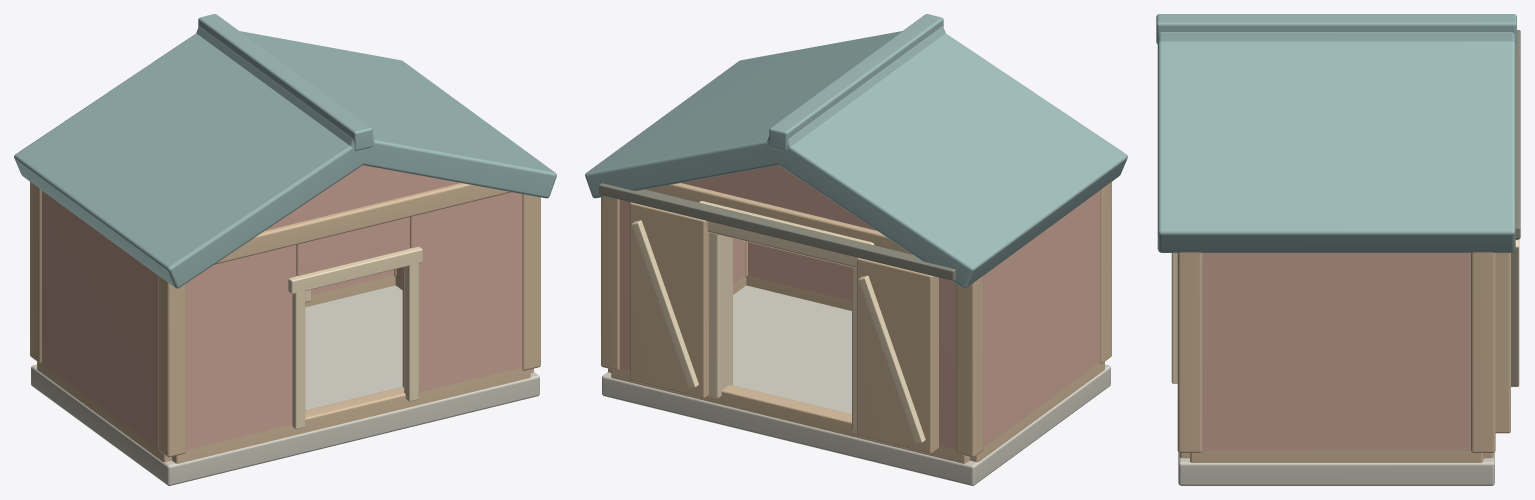
The model's file is shelter-roof.glb.
3 views of the same model, side by side, from view 1: azimuth 30°, elevation 25°; view 2: azimuth 150°, elevation 25°; view 3: azimuth 270°, elevation 25° (orthographic). The views are drawn at different scales.
Visible parts, largest first — view 1: Padded roof plane, Padded roof plane.001, Rounded stone footing.002, Side panel, Front cladding, Front cladding.001, Eave beam.002, Sill beam.008, Corner post.004, Ridge cap, Gable cladding, Front header panel (+7 smaller); view 2: Padded roof plane, Rounded stone footing.002, Padded roof plane.001, Side panel, Open sliding door, Open sliding door.001, Door track, Corner post.005, Ridge cap, Gable cladding.001, Sill beam.009, Door jamb.001 (+12 smaller); view 3: Padded roof plane.001, Side panel.001, Rounded stone footing.002, Ridge cap, Corner post.006, Corner post.007, Sill beam.011, Padded roof plane, Open sliding door.001, Door diagonal brace.001, Door track, Front door jamb.001.
Boxes of the visible parts, x1,y1,x2,y2 form: Padded roof plane: [14, 33, 377, 288]; Padded roof plane.001: [196, 26, 556, 198]; Rounded stone footing.002: [31, 285, 539, 485]; Side panel: [41, 190, 157, 447]; Front cladding: [186, 245, 296, 451]; Front cladding.001: [402, 192, 522, 392]; Eave beam.002: [214, 183, 511, 264]; Sill beam.008: [172, 367, 530, 463]; Corner post.004: [158, 275, 185, 457]; Ridge cap: [198, 14, 372, 150]; Gable cladding: [265, 165, 460, 230]; Front header panel: [296, 217, 409, 275]; Padded roof plane: [764, 33, 1127, 288]; Rounded stone footing.002: [602, 285, 1110, 485]; Padded roof plane.001: [585, 26, 945, 198]; Side panel: [984, 190, 1100, 447]; Open sliding door: [856, 257, 938, 453]; Open sliding door.001: [630, 202, 708, 398]; Door track: [599, 183, 955, 280]; Corner post.005: [956, 275, 983, 457]; Ridge cap: [769, 14, 943, 150]; Gable cladding.001: [681, 165, 876, 230]; Sill beam.009: [611, 367, 969, 463]; Door jamb.001: [708, 232, 732, 398]; Padded roof plane.001: [1157, 41, 1515, 252]; Side panel.001: [1202, 253, 1470, 450]; Rounded stone footing.002: [1178, 452, 1494, 485]; Ridge cap: [1156, 14, 1516, 43]; Corner post.006: [1177, 252, 1202, 452]; Corner post.007: [1471, 252, 1495, 452]; Sill beam.011: [1190, 448, 1483, 462]; Padded roof plane: [1157, 32, 1515, 42]; Open sliding door.001: [1495, 253, 1510, 433]; Door diagonal brace.001: [1511, 240, 1519, 386]; Door track: [1515, 30, 1520, 238]; Front door jamb.001: [1171, 253, 1177, 383].
Bounding box in the file's own units: 3.51 × 2.75 × 2.49.
